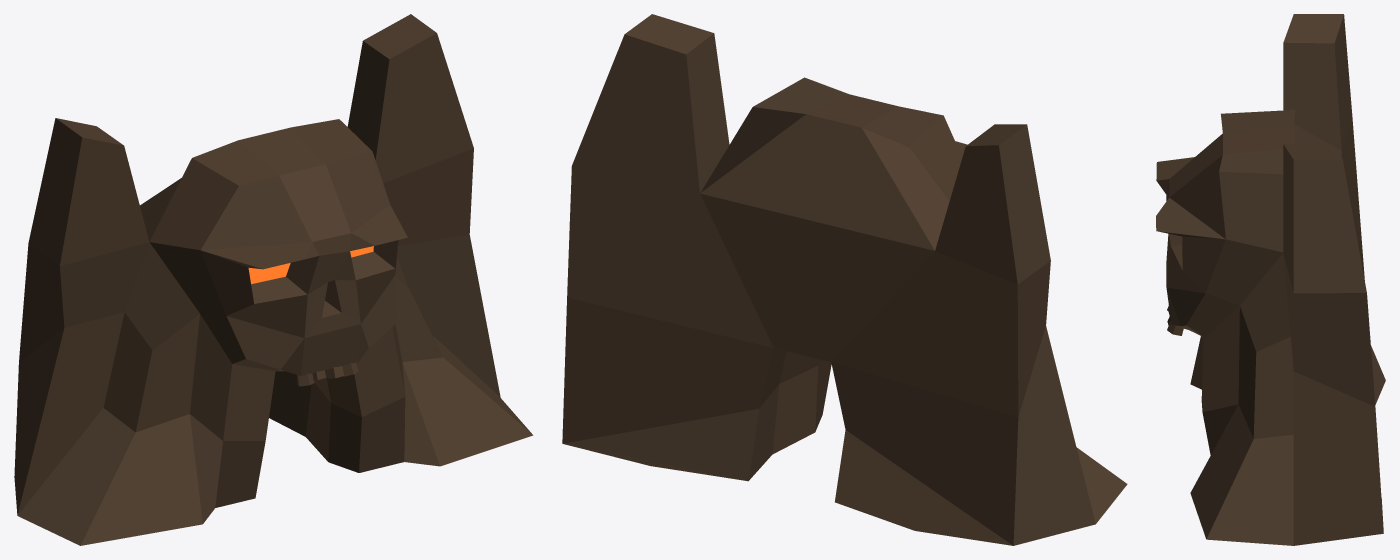
Rendered from nature_cave-skull.fbx.
3 renders of one model, left to right at view 1: azimuth 30°, elevation 25°; view 2: azimuth 150°, elevation 25°; view 3: azimuth 270°, elevation 25°, orthographic. The views are drawn at different scales.
Parts seen in each view (by area): view 1: nature_cave_skull; view 2: nature_cave_skull; view 3: nature_cave_skull.
Boxes of the visible parts, x1,y1,x2,y2 form: nature_cave_skull: [14, 14, 533, 545]; nature_cave_skull: [562, 14, 1127, 545]; nature_cave_skull: [1156, 14, 1385, 545].
Size of the model in its own units: 200 by 151 by 87.77.
